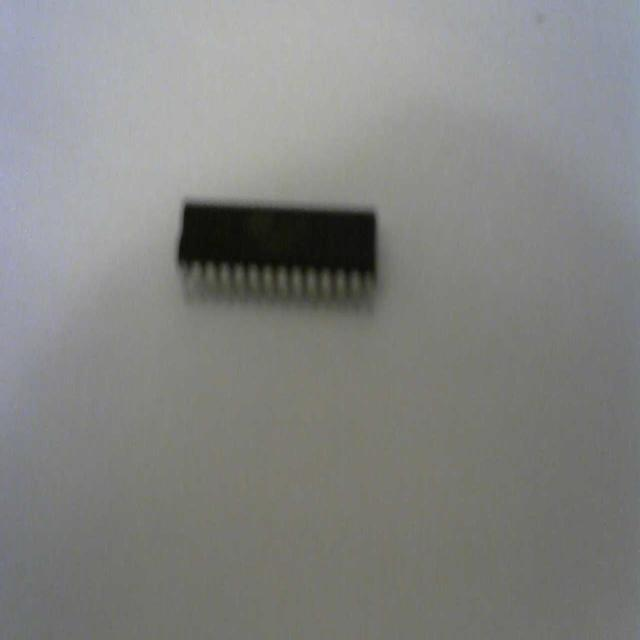atmega: (174, 194, 380, 314)
